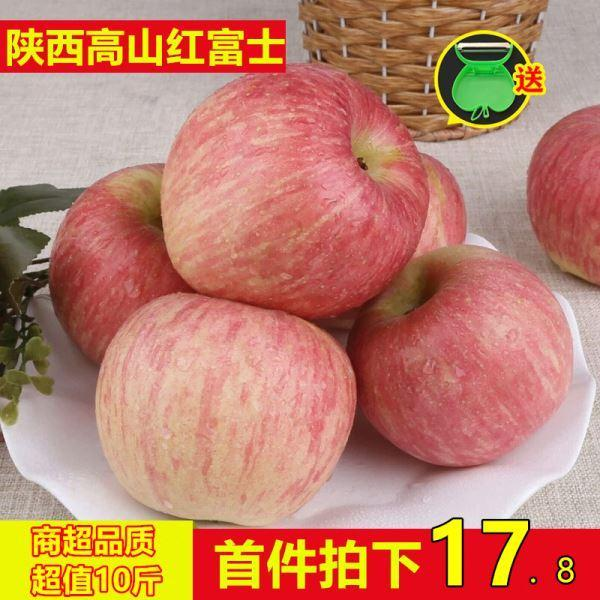apple: (92, 298, 359, 529), (346, 248, 574, 468), (44, 159, 197, 366), (523, 105, 599, 289)
